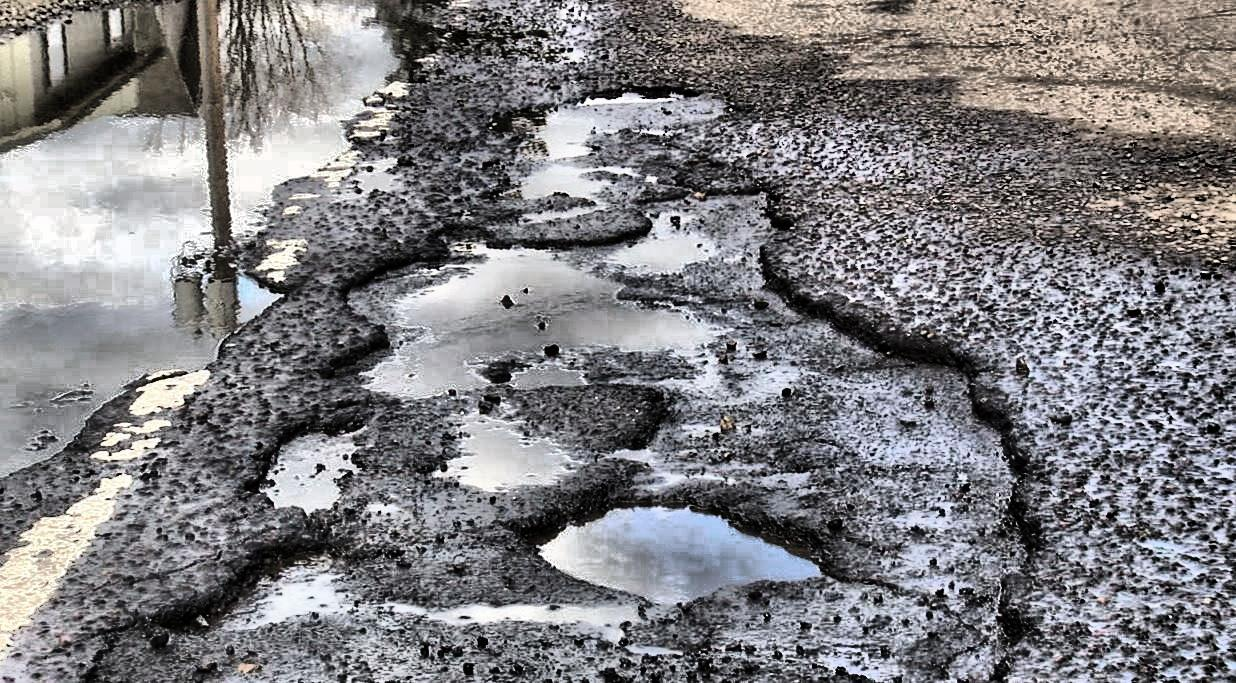pothole: (348, 227, 807, 403), (526, 501, 849, 609), (174, 540, 377, 639), (480, 84, 695, 165), (427, 408, 575, 501), (251, 416, 371, 524), (513, 166, 651, 228)
